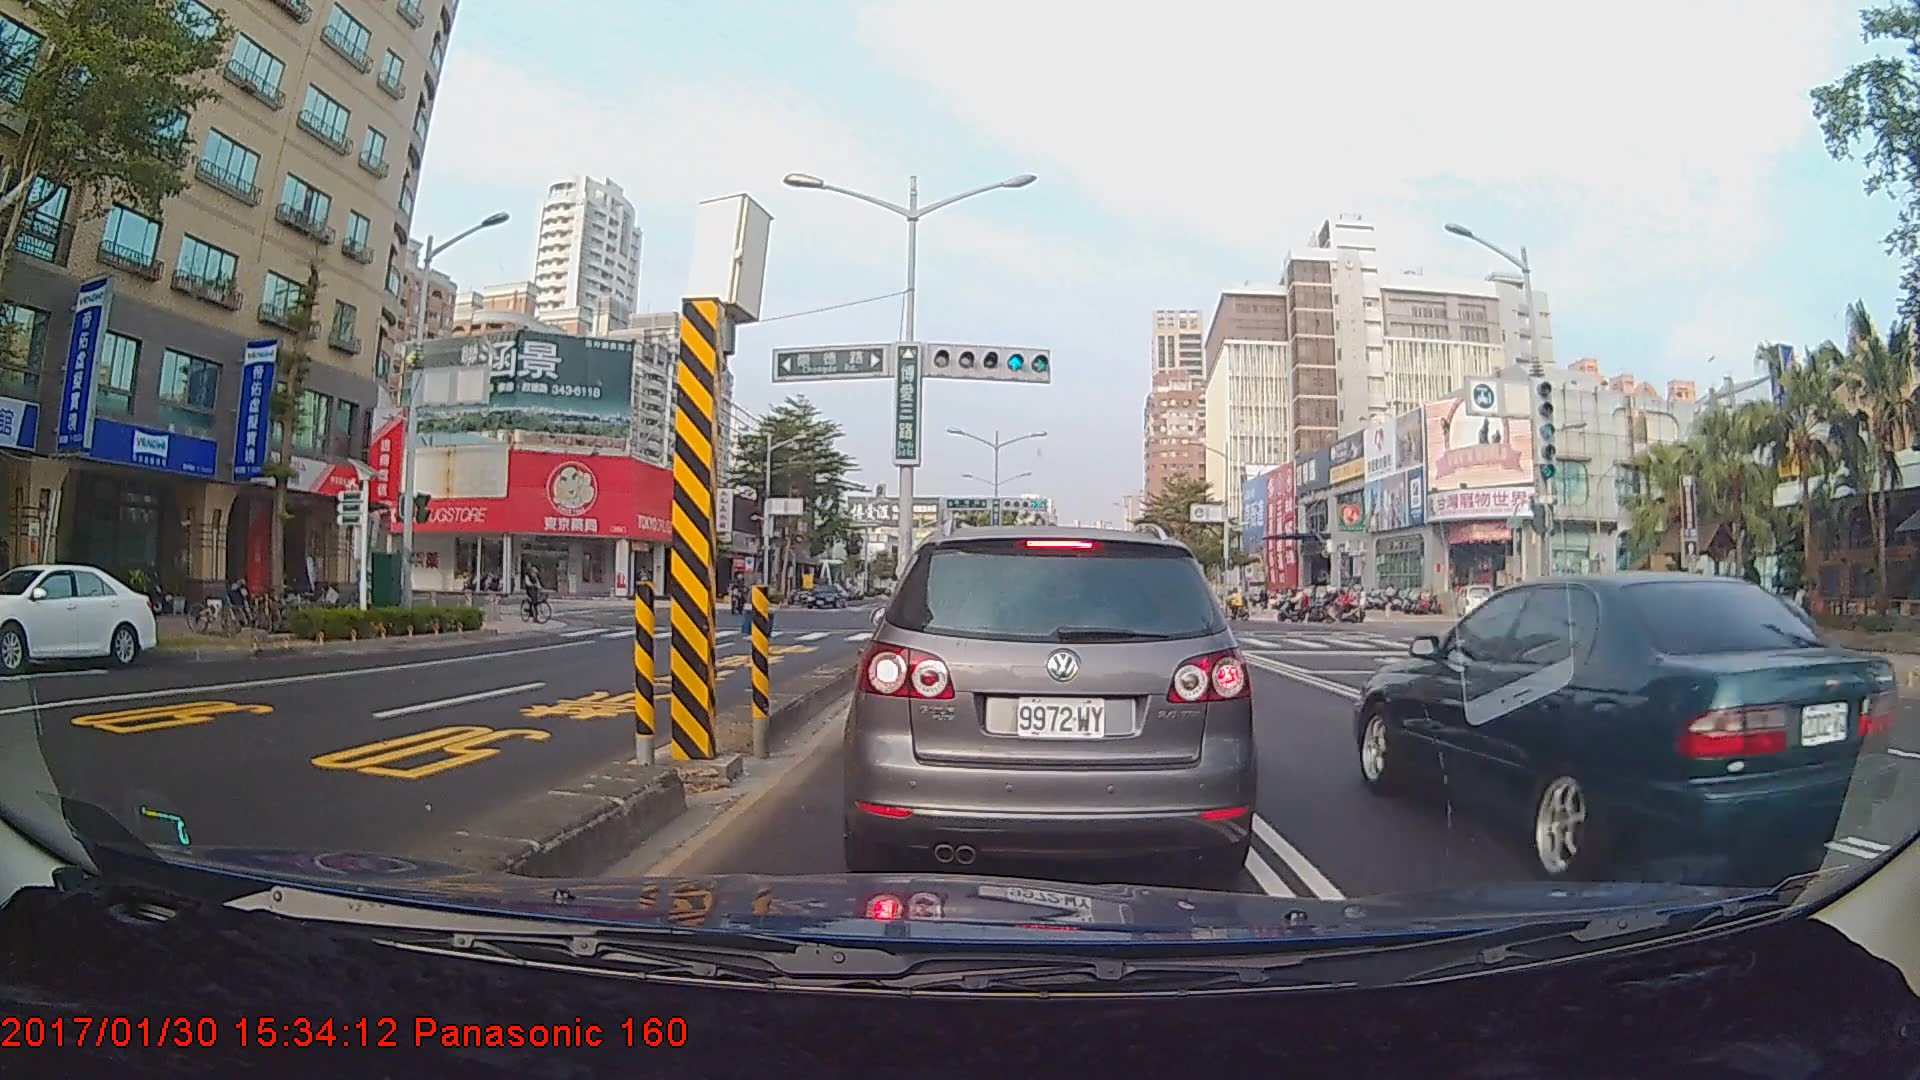pedestrian: (1790, 579, 1816, 646)
rider: (518, 559, 561, 629)
vehicle: (1352, 568, 1899, 880), (852, 517, 1254, 879), (0, 561, 160, 671), (809, 584, 846, 610)
